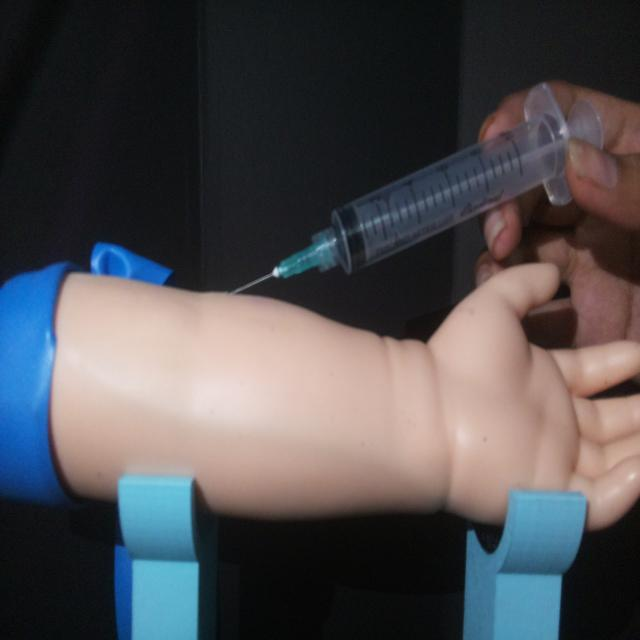24deg: (223, 80, 605, 300)
